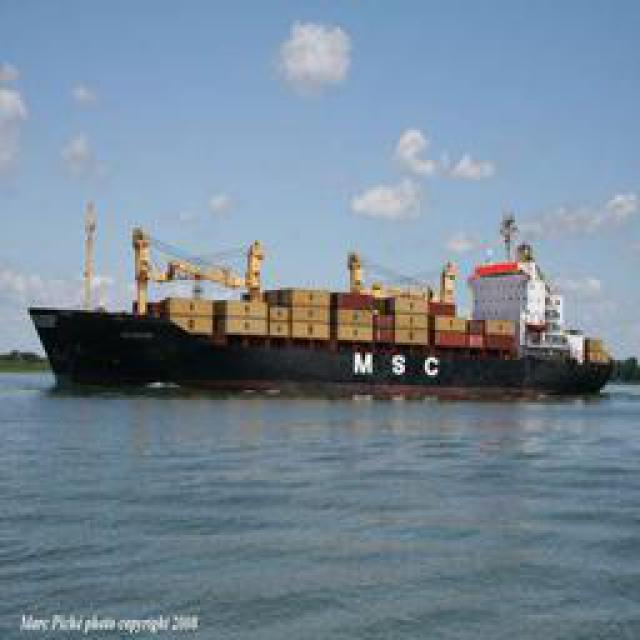Ship: (48, 211, 613, 404)
